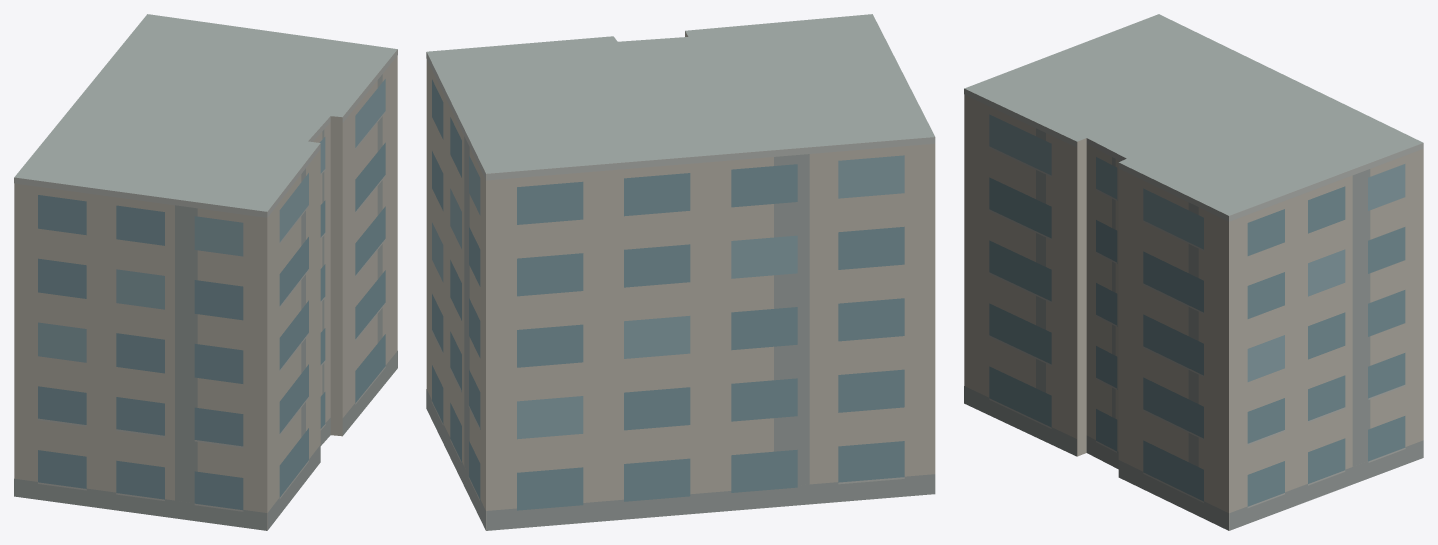
File: survey-upis-32913791.glb
3 views of the same model, side by side, from view 1: azimuth 30°, elevation 25°; view 2: azimuth 150°, elevation 25°; view 3: azimuth 270°, elevation 25° (orthographic). The views are drawn at different scales.
Visible parts, largest first — view 1: survey-upis-32913791.tmp; view 2: survey-upis-32913791.tmp; view 3: survey-upis-32913791.tmp.
Boxes of the visible parts, box(x1,y1,x2,y2) form: survey-upis-32913791.tmp: box(14, 14, 397, 530); survey-upis-32913791.tmp: box(426, 14, 935, 530); survey-upis-32913791.tmp: box(964, 14, 1423, 530).
Size of the model in its own units: 17.88 by 13 by 17.2.
